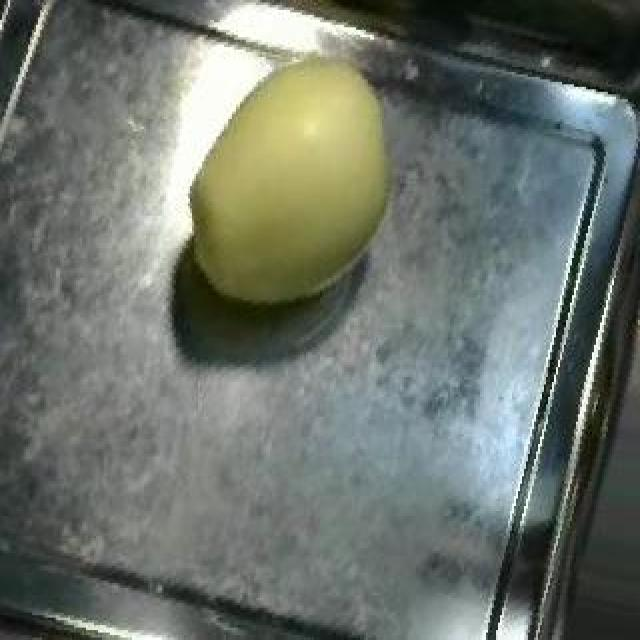apple: (171, 26, 411, 340)
